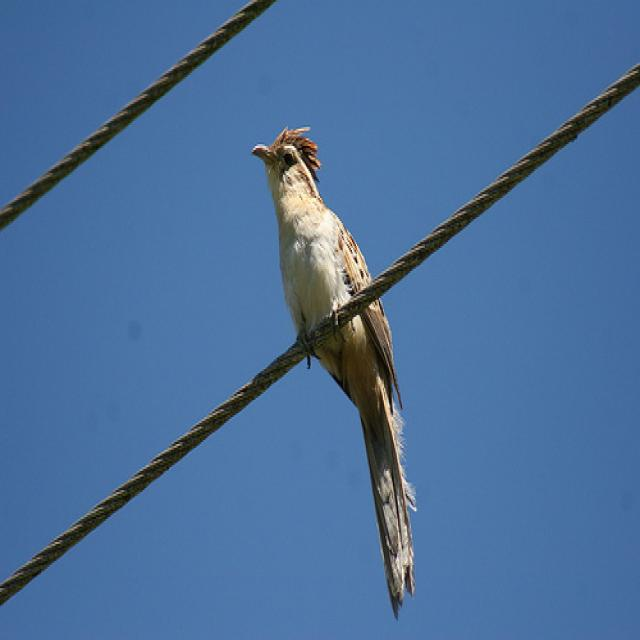bird: (251, 124, 418, 620)
